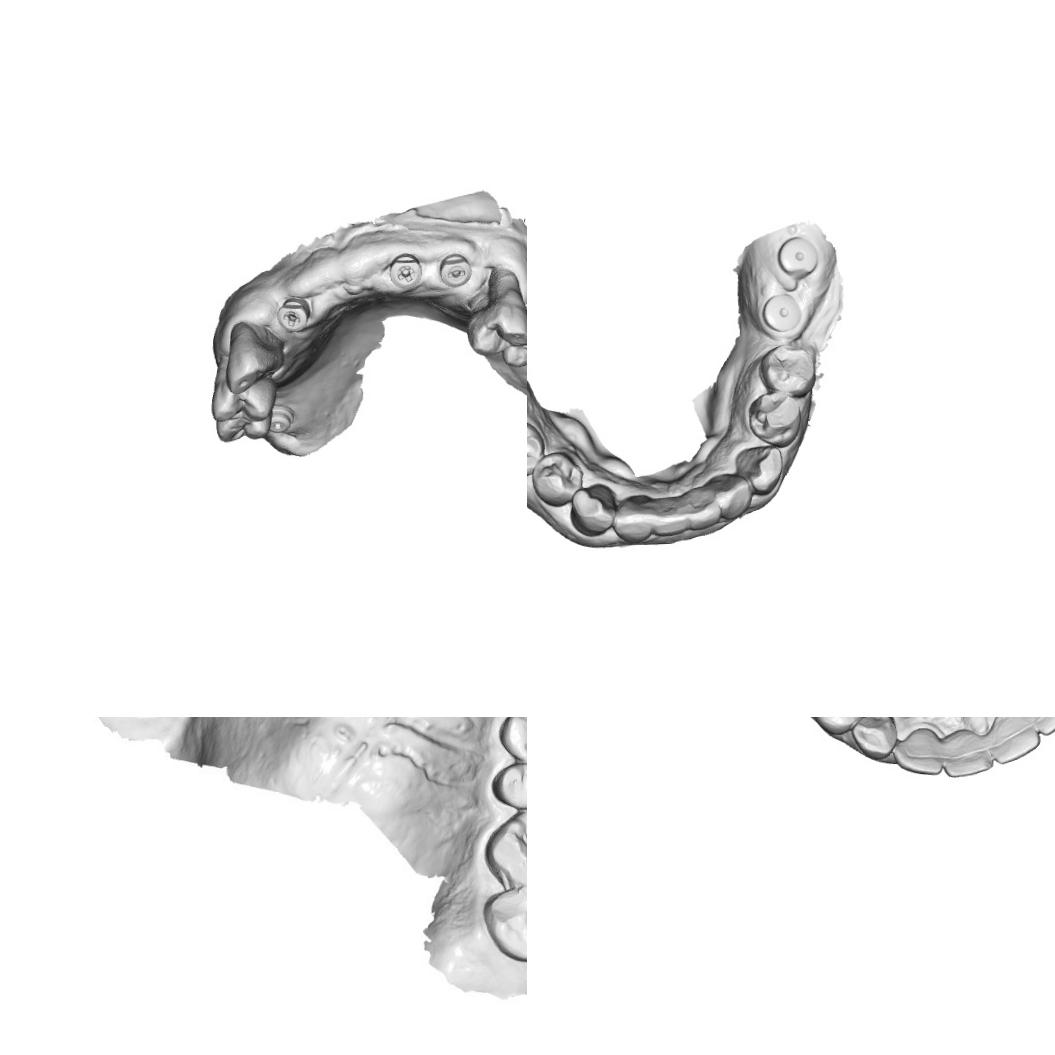canine: (219, 318, 288, 395), (731, 438, 789, 498), (566, 482, 618, 538), (848, 717, 899, 762)
implant: (775, 232, 823, 280), (762, 293, 804, 335)
implant_minus: (435, 250, 474, 291)
implant_plus: (384, 249, 428, 295), (272, 294, 314, 337)
incisor: (943, 722, 994, 780), (984, 717, 1041, 768), (892, 722, 944, 776), (608, 490, 657, 545), (707, 469, 755, 523), (679, 477, 722, 534), (650, 490, 692, 539), (1021, 717, 1055, 738)
molar: (481, 810, 527, 889), (481, 887, 527, 964)
premolar: (461, 295, 527, 360), (756, 341, 821, 401), (745, 392, 812, 448), (208, 375, 276, 424), (530, 450, 584, 510), (489, 759, 527, 814), (498, 307, 527, 370), (496, 717, 527, 767), (811, 717, 870, 740), (527, 416, 547, 483)
